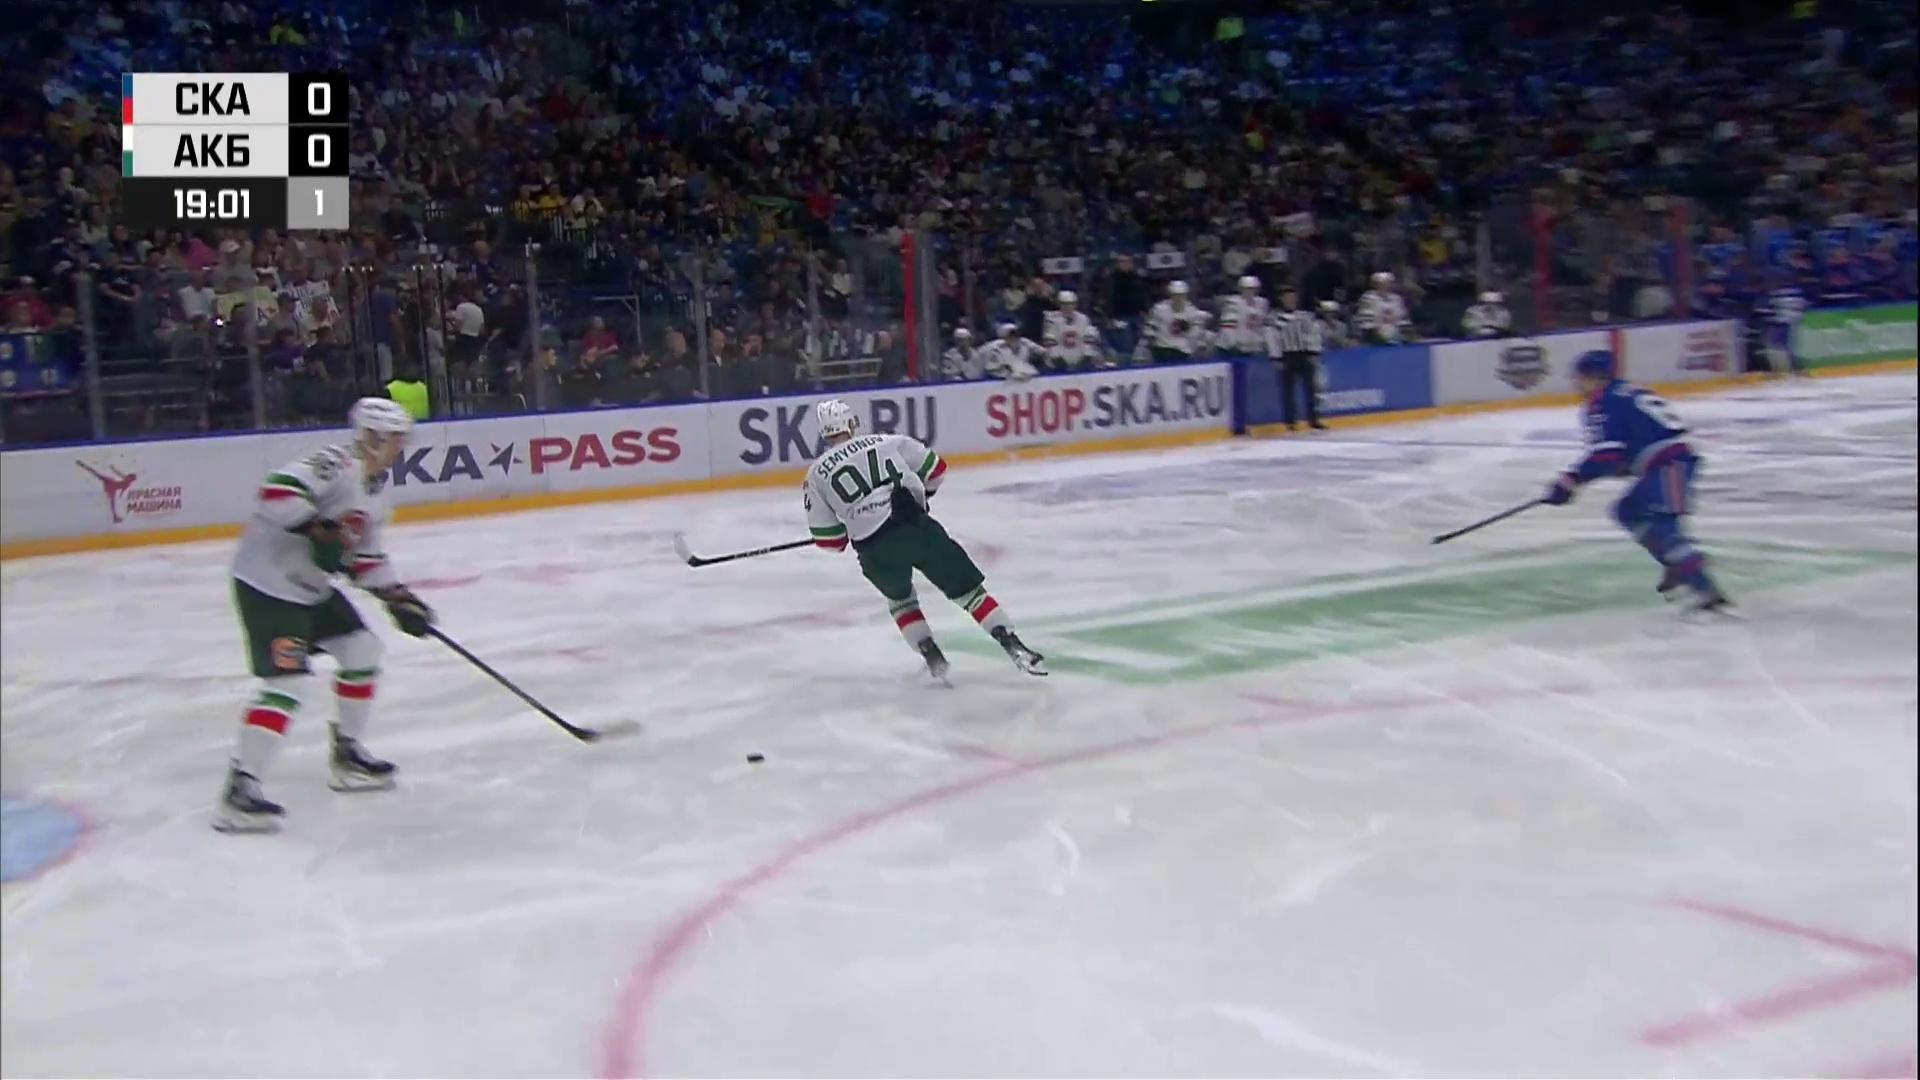ball: (745, 753, 764, 762)
